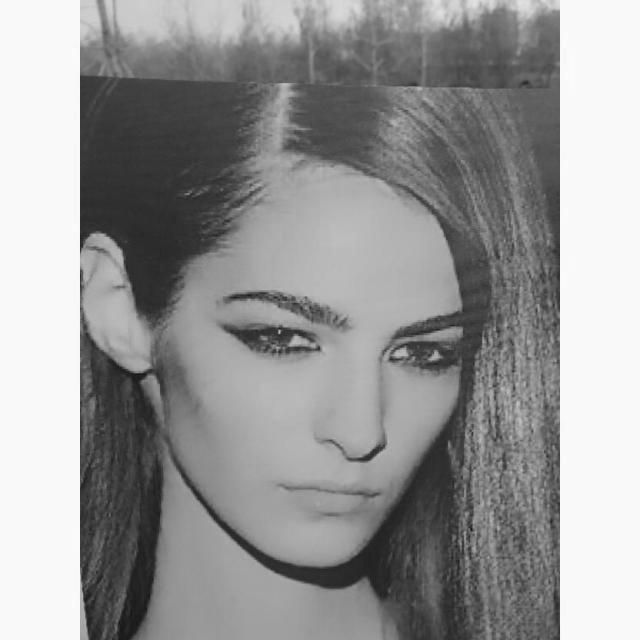fake: (82, 76, 560, 638)
